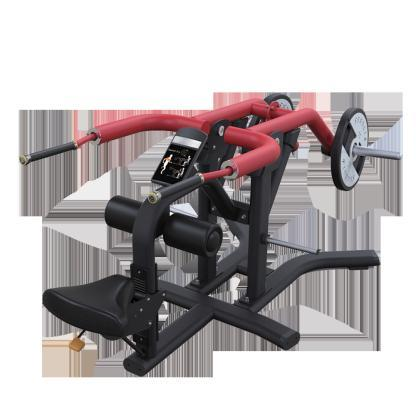seated dip machine: (18, 93, 404, 379)
